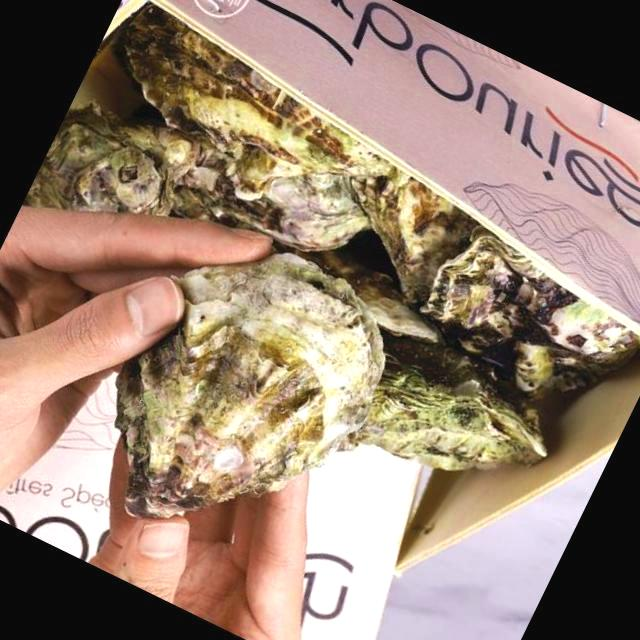Oyster-Closed: (115, 253, 386, 521), (116, 4, 395, 178), (22, 106, 279, 237), (190, 134, 371, 257), (356, 363, 547, 472), (352, 171, 472, 308), (293, 235, 442, 345), (420, 237, 563, 343), (512, 340, 640, 412), (551, 302, 640, 361)
